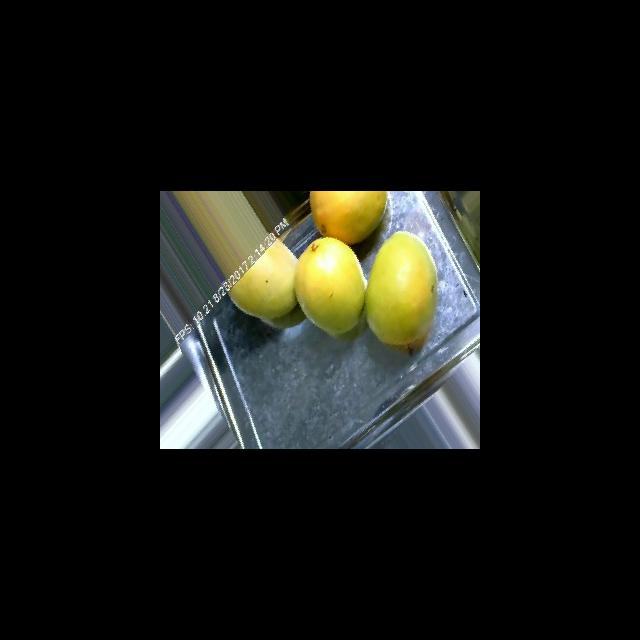Mango: (365, 230, 438, 346), (294, 236, 366, 335), (227, 238, 298, 320), (309, 191, 387, 245)
